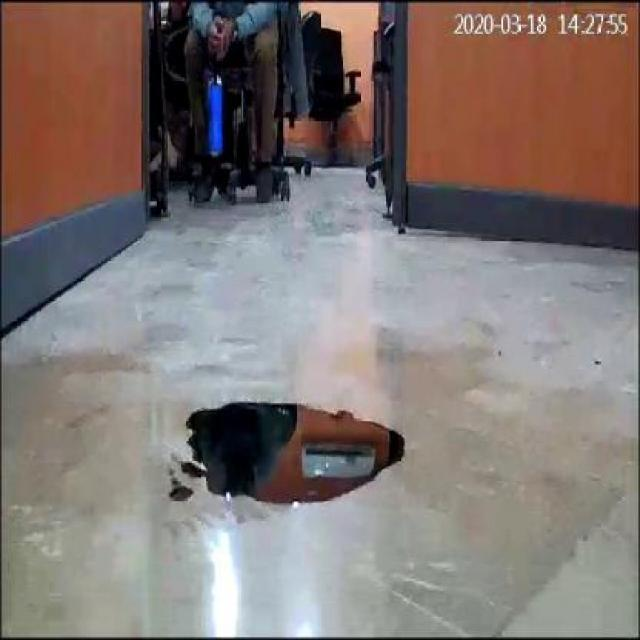spill: (185, 396, 410, 509)
